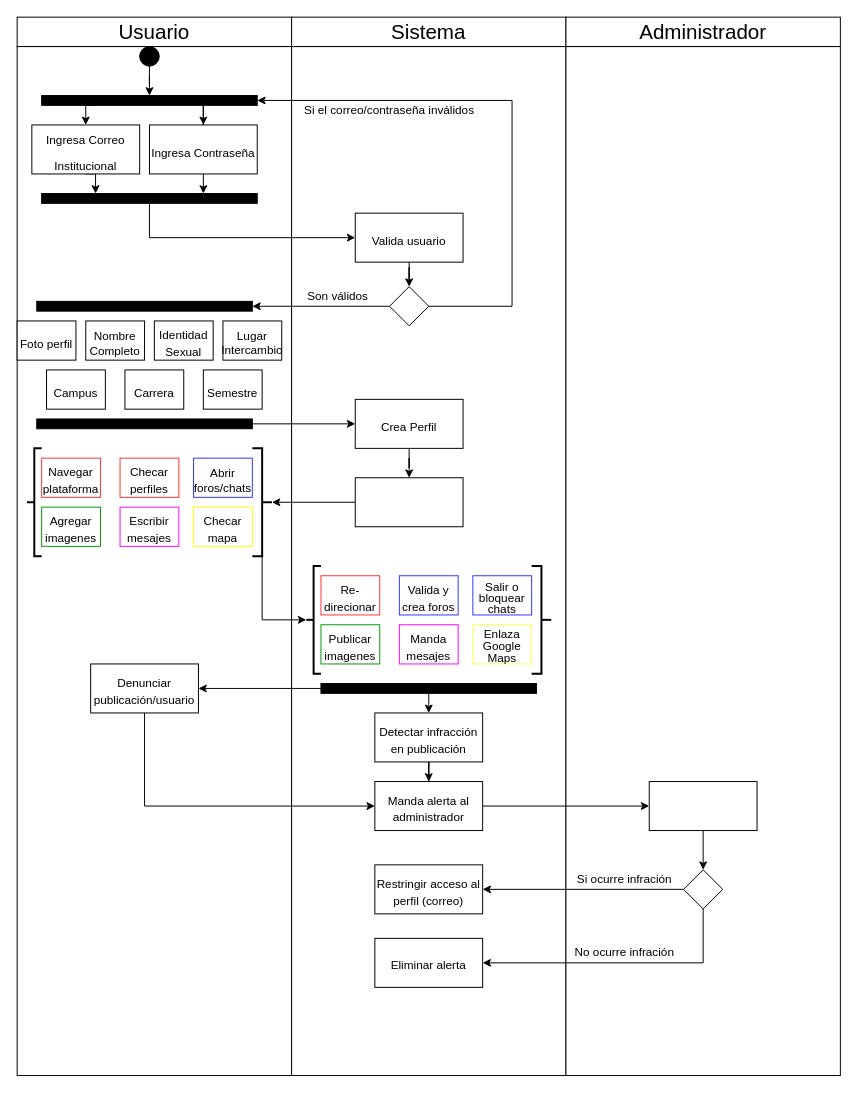
Some shapes in this 858 by 1093 pixel diagram are drawn without their labels. The shapes that lost their labels are listed below. From the top down, each one's centre as x and y in pixels, then its label:
At (x=408, y=502): "Despliega página de Inicio".
At (x=702, y=806): "Verifica la alerta".
